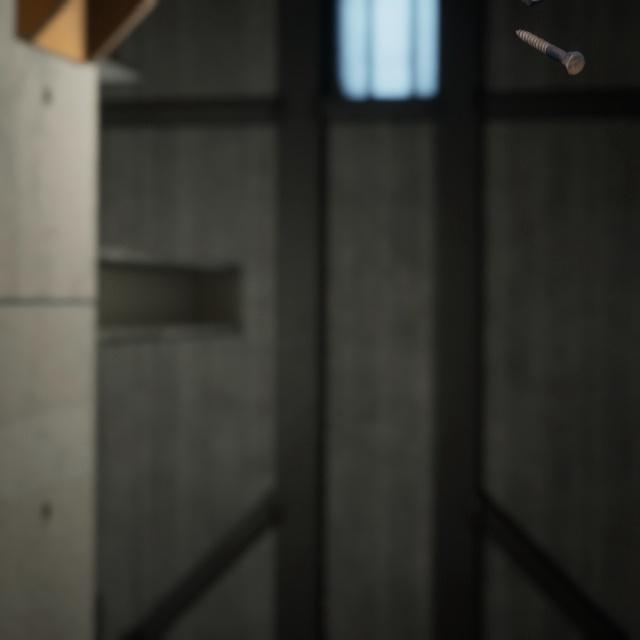bolt: (511, 16, 589, 69)
